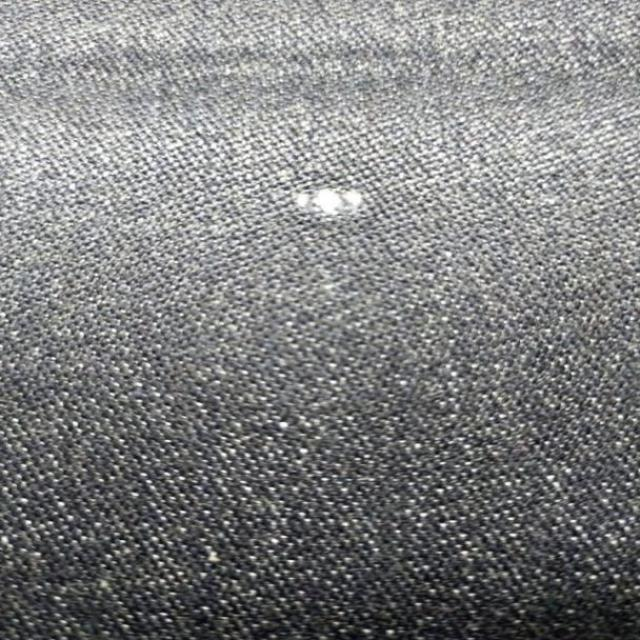Knot: (294, 188, 364, 215)
